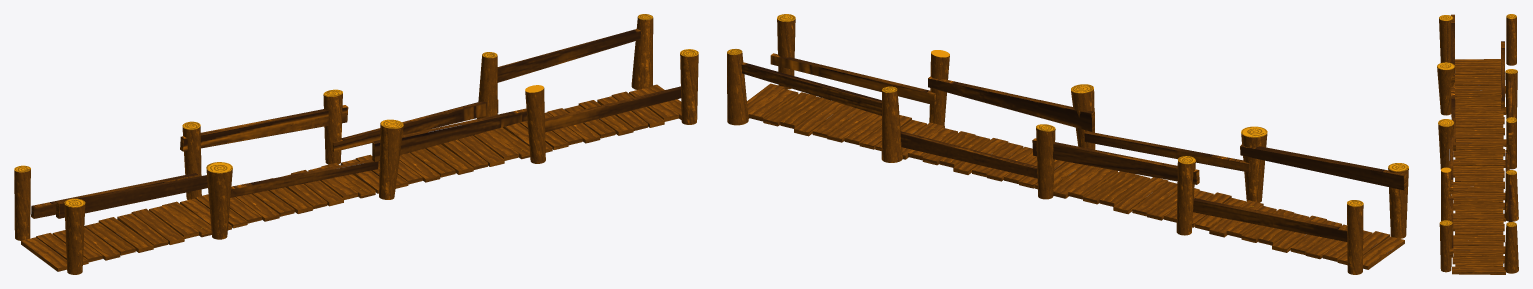
Rendered from bridge.fbx.
3 renders of one model, left to right at view 1: azimuth 30°, elevation 25°; view 2: azimuth 150°, elevation 25°; view 3: azimuth 270°, elevation 25°, orthographic. The views are drawn at different scales.
Visible parts, largest first — view 1: pCube10; view 2: pCube10; view 3: pCube10.
Part boxes in pixels (box(x1,y1,x2,y2)): pCube10: box(14, 14, 698, 274); pCube10: box(727, 14, 1408, 274); pCube10: box(1437, 14, 1518, 274).
Size of the model in its own units: 61.66 by 6.79 by 10.03.
